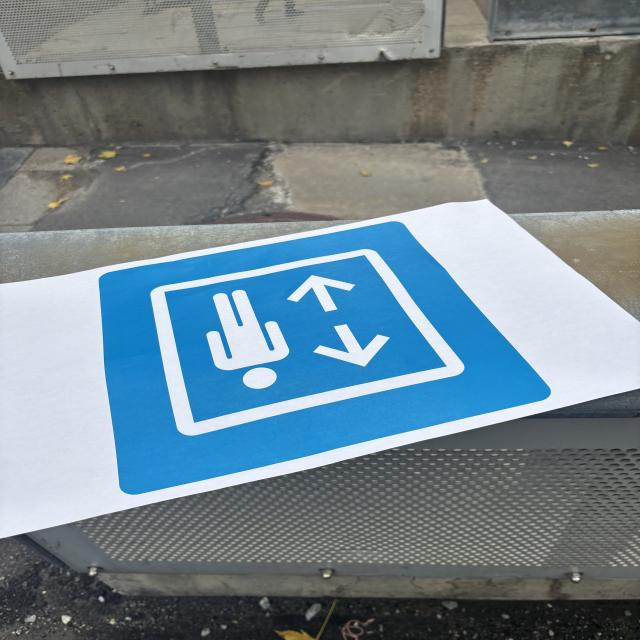elevator: (103, 223, 552, 496)
